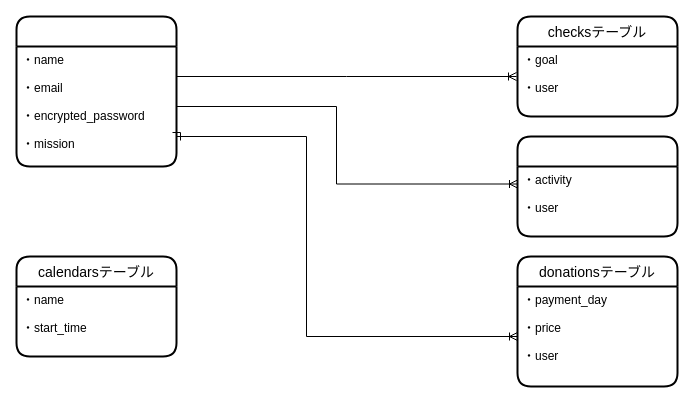
Some shapes in this 694 by 403 pixel diagram are drawn without their labels. Here are the shapes that lost their labels. From the top down, the box of each, then its label:
(15, 15, 177, 167): usersテーブル
(516, 135, 678, 237): completesテーブル
